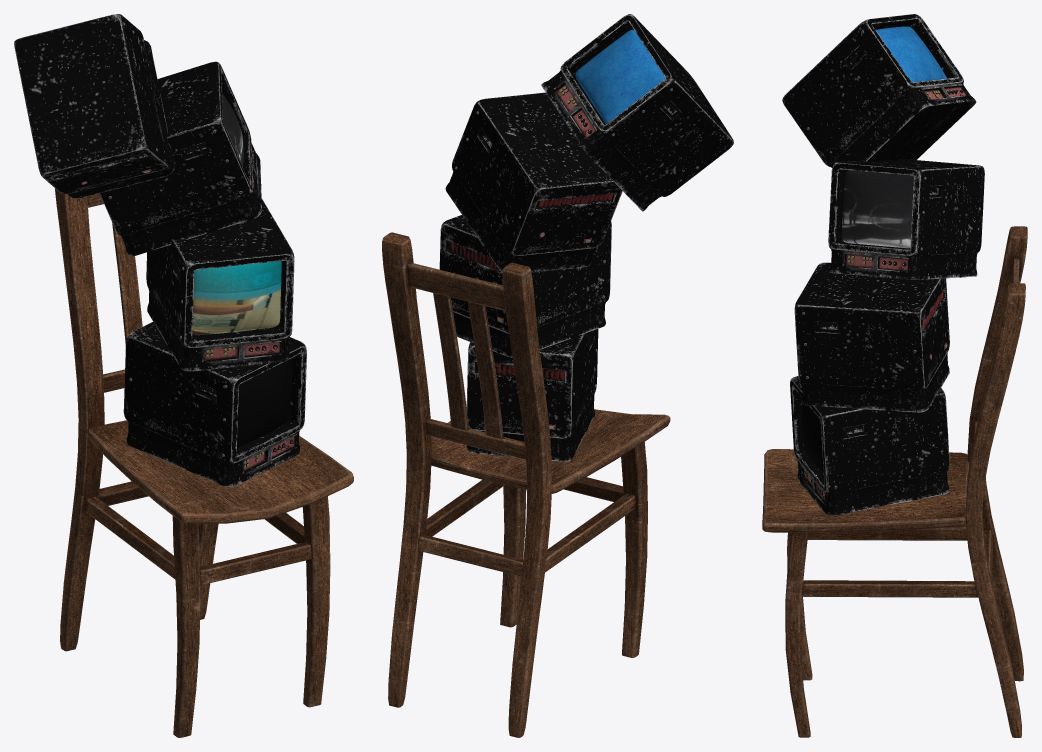
The picture shows the model from 3 angles, left to right: view 1: azimuth 30°, elevation 25°; view 2: azimuth 150°, elevation 25°; view 3: azimuth 270°, elevation 25°; orthographic projection. The views are drawn at different scales.
Visible parts, largest first — view 1: Chair.002, CRT.005, CRT.001, CRT.002, CRT.004; view 2: Chair.002, CRT.004, CRT.005, CRT.002, CRT.001; view 3: Chair.002, CRT.002, CRT.005, CRT.004, CRT.001.
Part boxes in pixels (x1,y1,x2,y2): Chair.002: (54, 188, 353, 737); CRT.005: (14, 14, 174, 198); CRT.001: (123, 322, 306, 486); CRT.002: (146, 198, 294, 371); CRT.004: (99, 61, 261, 256); Chair.002: (382, 232, 670, 737); CRT.004: (445, 92, 622, 272); CRT.005: (541, 14, 733, 211); CRT.002: (439, 215, 611, 357); CRT.001: (466, 329, 598, 461); Chair.002: (762, 226, 1027, 737); CRT.002: (794, 262, 949, 412); CRT.005: (782, 14, 976, 167); CRT.004: (828, 159, 984, 279); CRT.001: (790, 376, 949, 515).
Size of the model in its own units: 0.6123 by 1.49 by 0.5599.
5 materials, 4 textured.
